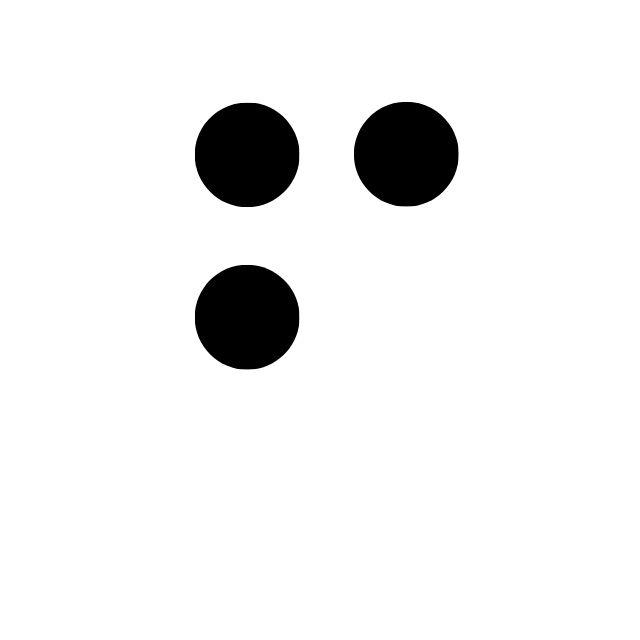paano: (196, 102, 461, 495)
